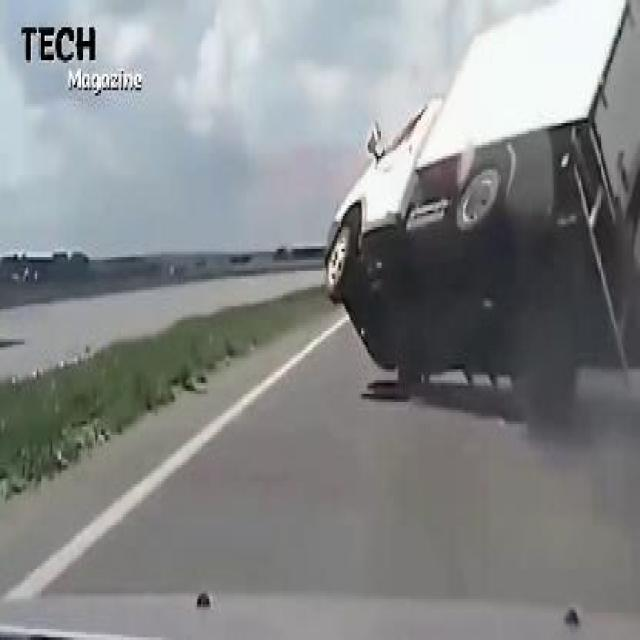accident: (322, 0, 638, 413)
